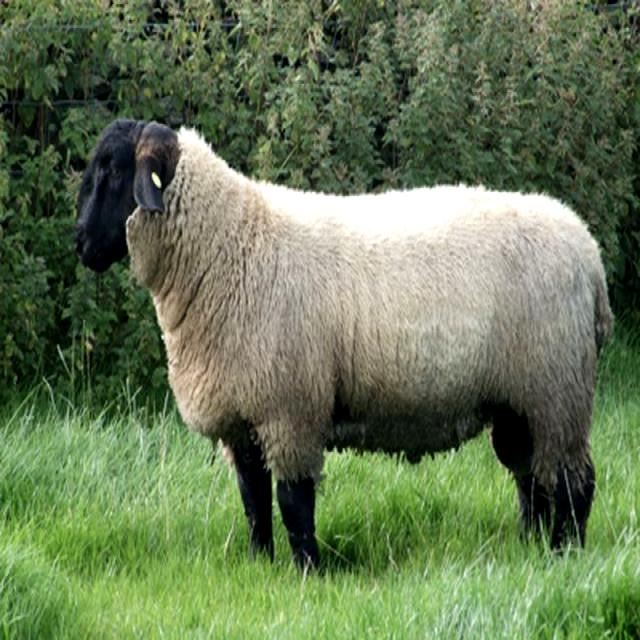sheep: (75, 119, 615, 573)
